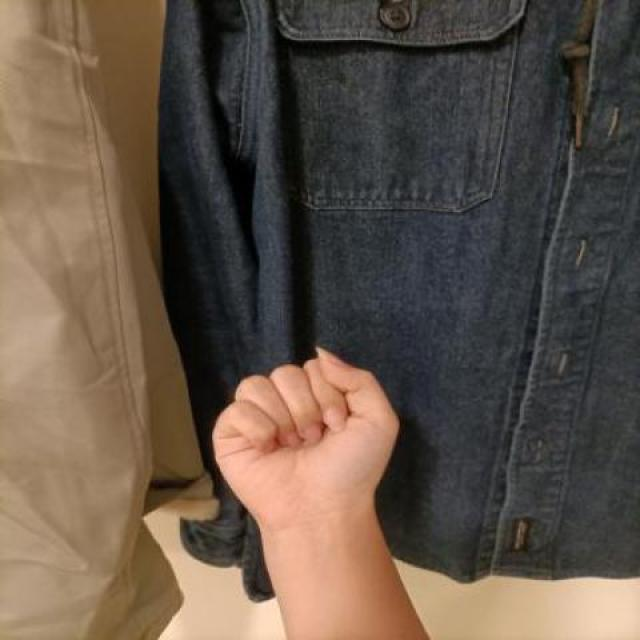Closed Hand: (175, 346, 413, 533)
